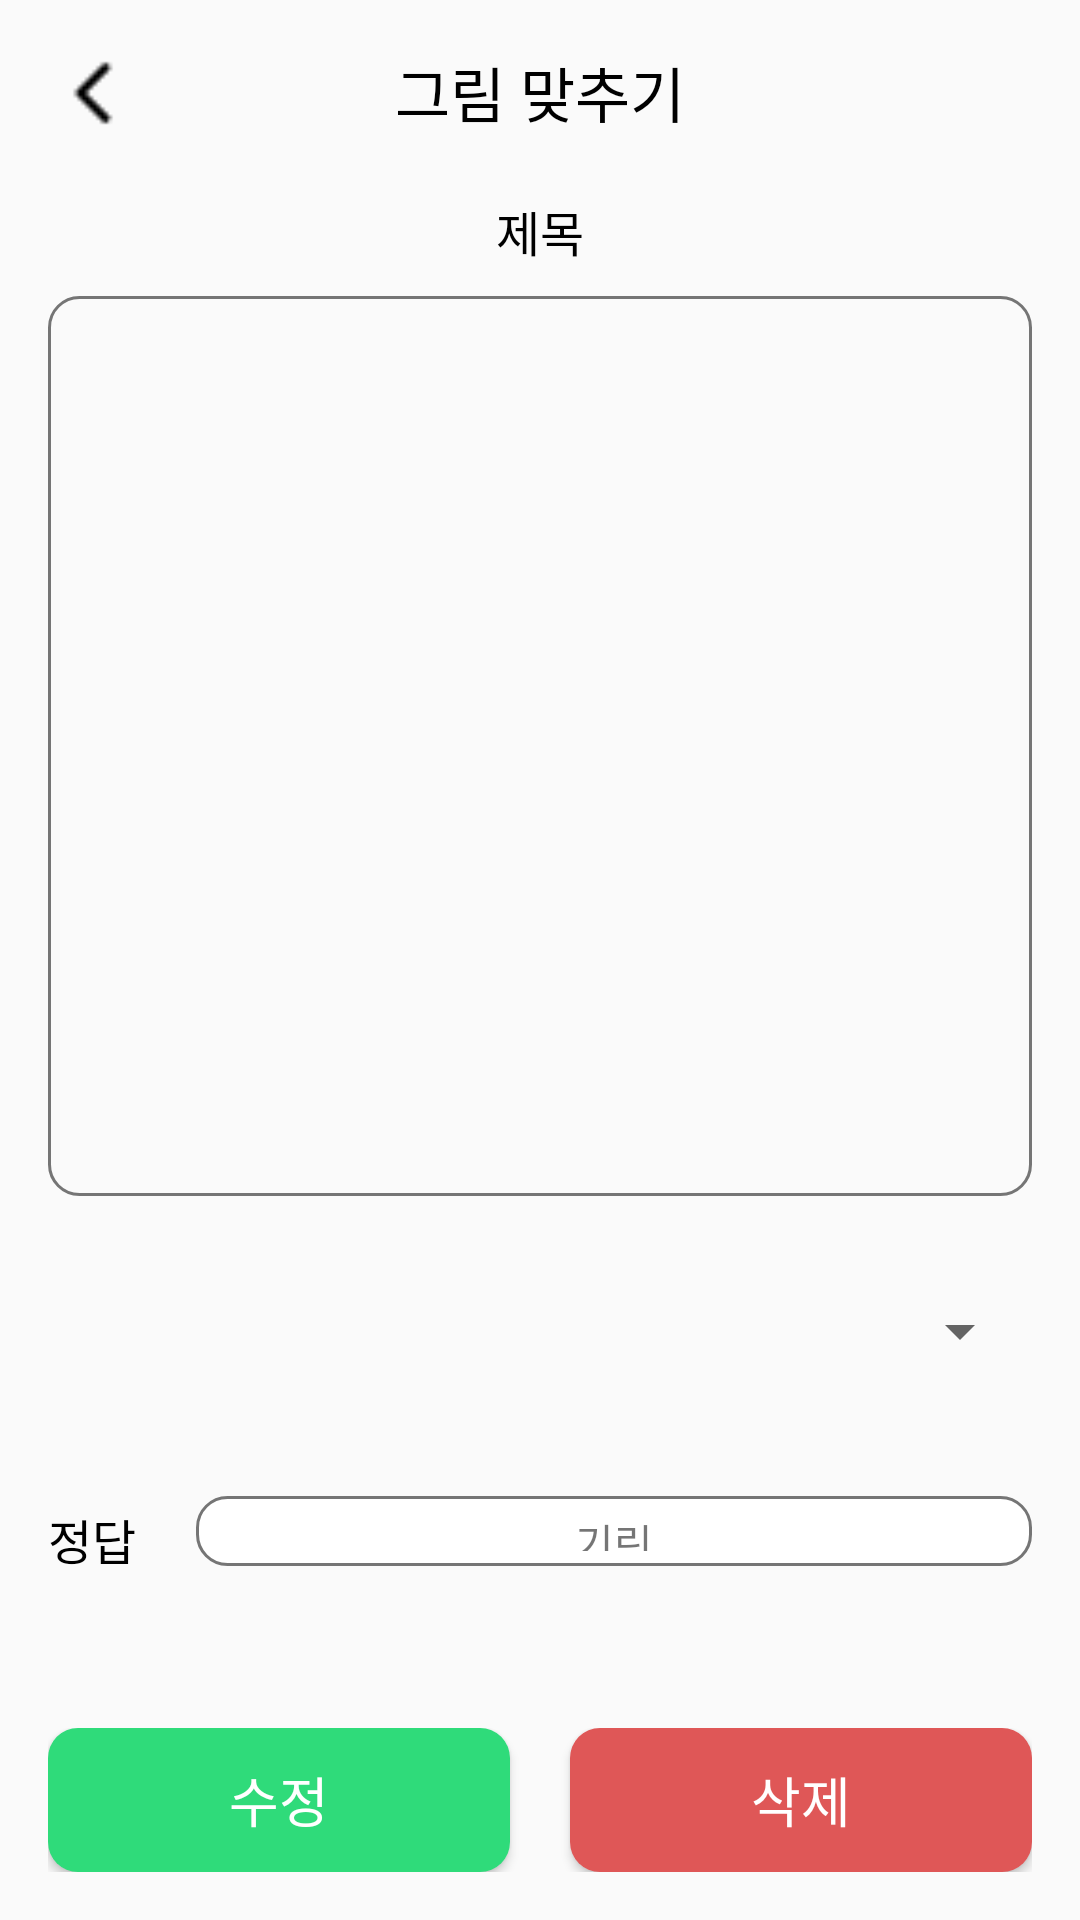

Named icons in this screenshot (1080px x 1920px) and their centers, [x,y]:
pre: [93,93]
